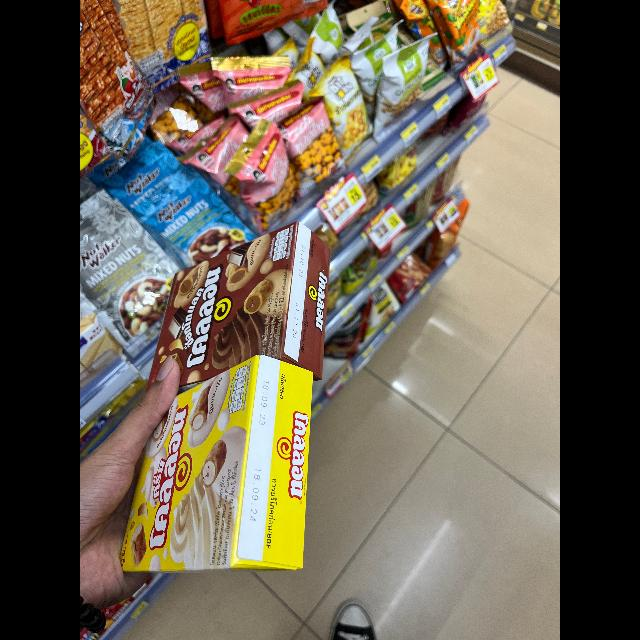cardboard_box: (120, 351, 334, 587), (136, 216, 342, 404)
